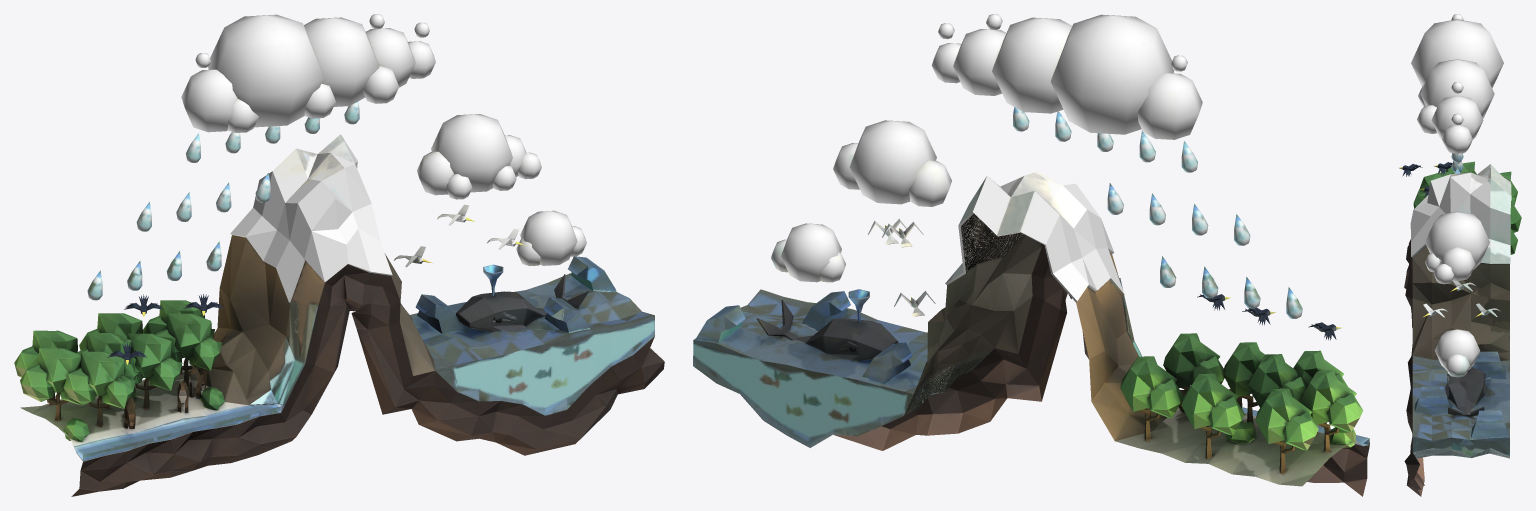
File: playa.glb
The picture shows the model from 3 angles, left to right: view 1: azimuth 30°, elevation 25°; view 2: azimuth 150°, elevation 25°; view 3: azimuth 270°, elevation 25°; orthographic projection. The views are drawn at different scales.
Parts seen in each view (by area): view 1: Object_3, Object_2; view 2: Object_3, Object_2; view 3: Object_3, Object_2.
Part boxes in pixels (left/top/right/bottom): Object_3: left=14, top=134, right=664, bottom=496; Object_2: left=87, top=14, right=586, bottom=405; Object_3: left=693, top=171, right=1369, bottom=496; Object_2: left=771, top=14, right=1332, bottom=355; Object_3: left=1399, top=161, right=1521, bottom=496; Object_2: left=1405, top=14, right=1511, bottom=414.
Bounding box in the file's own units: 6.99 × 5.25 × 1.59.
Materials: 1 (1 with a texture image).
